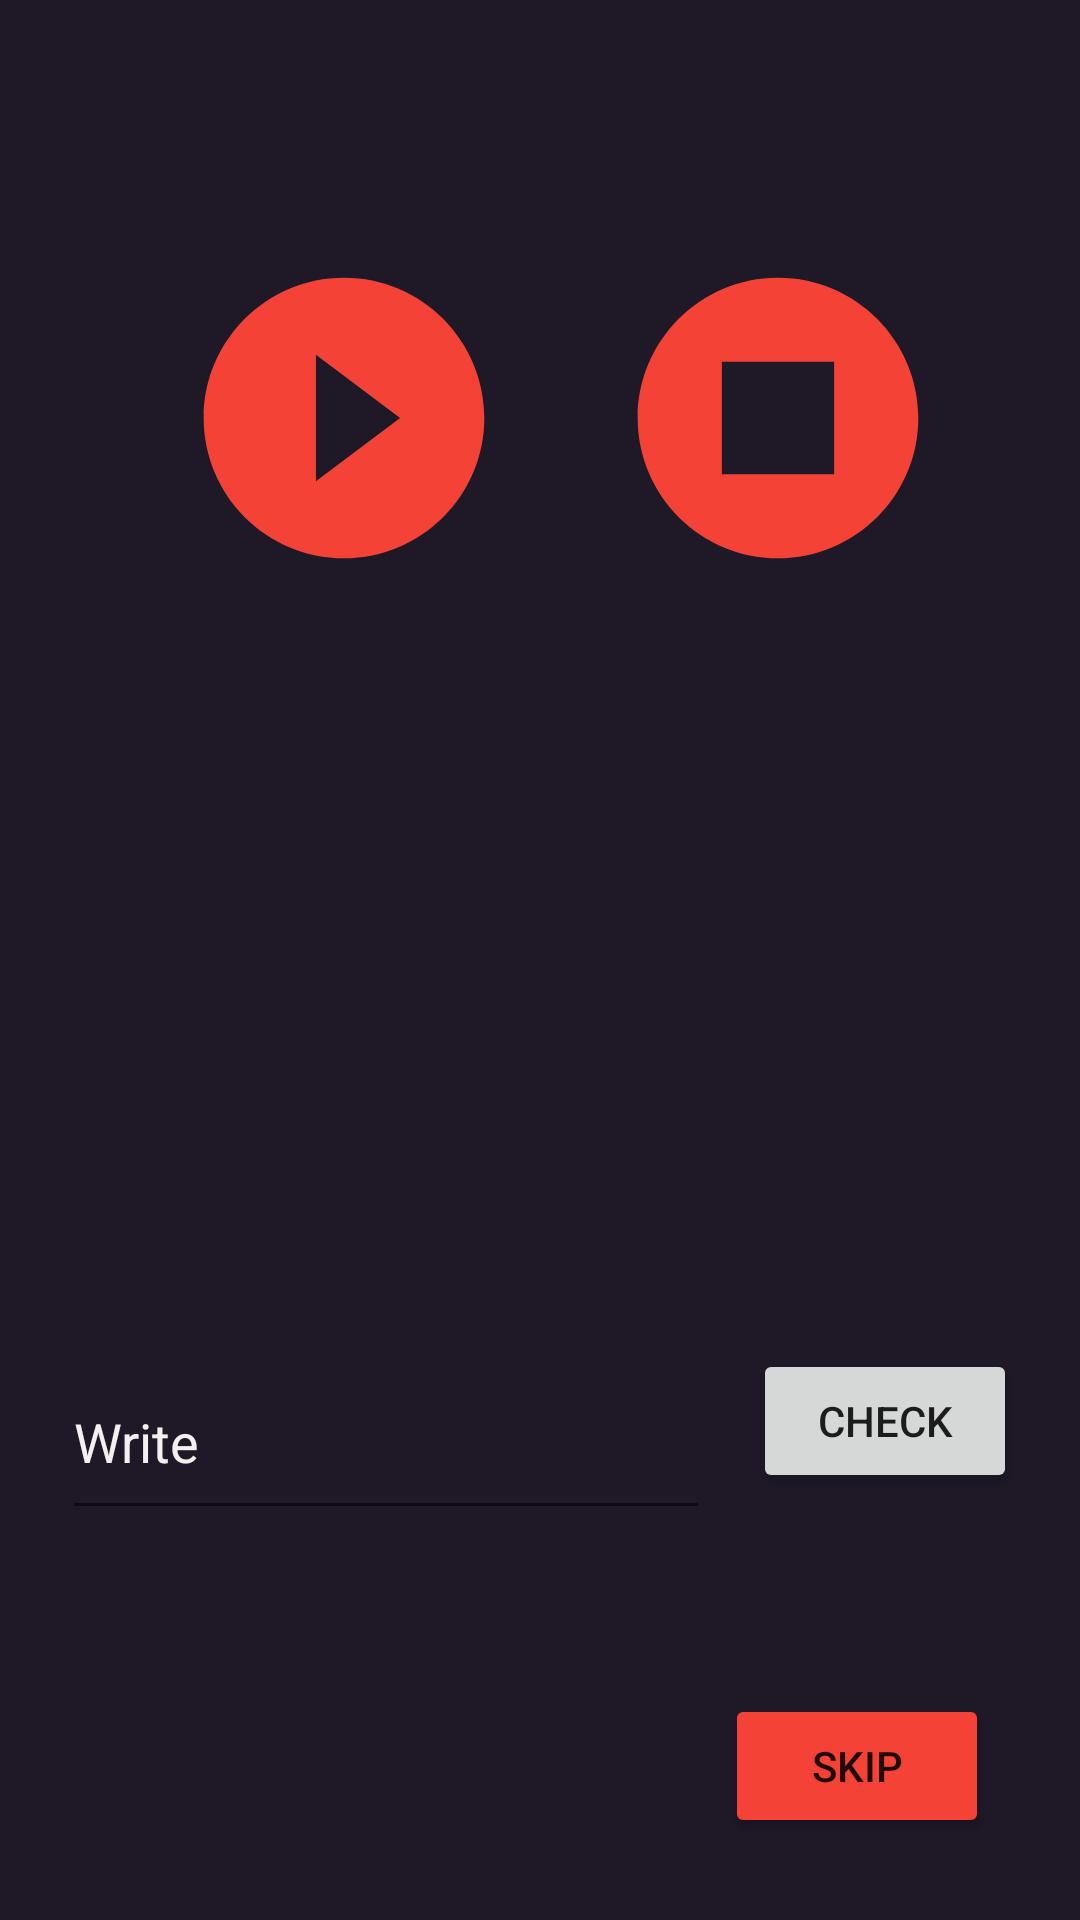

Icon bounding boxes for this 1080w x 1920h phone screenshot, format (x1, y1, x2, y2):
play: (203, 277, 485, 559)
stop: (637, 277, 919, 559)
